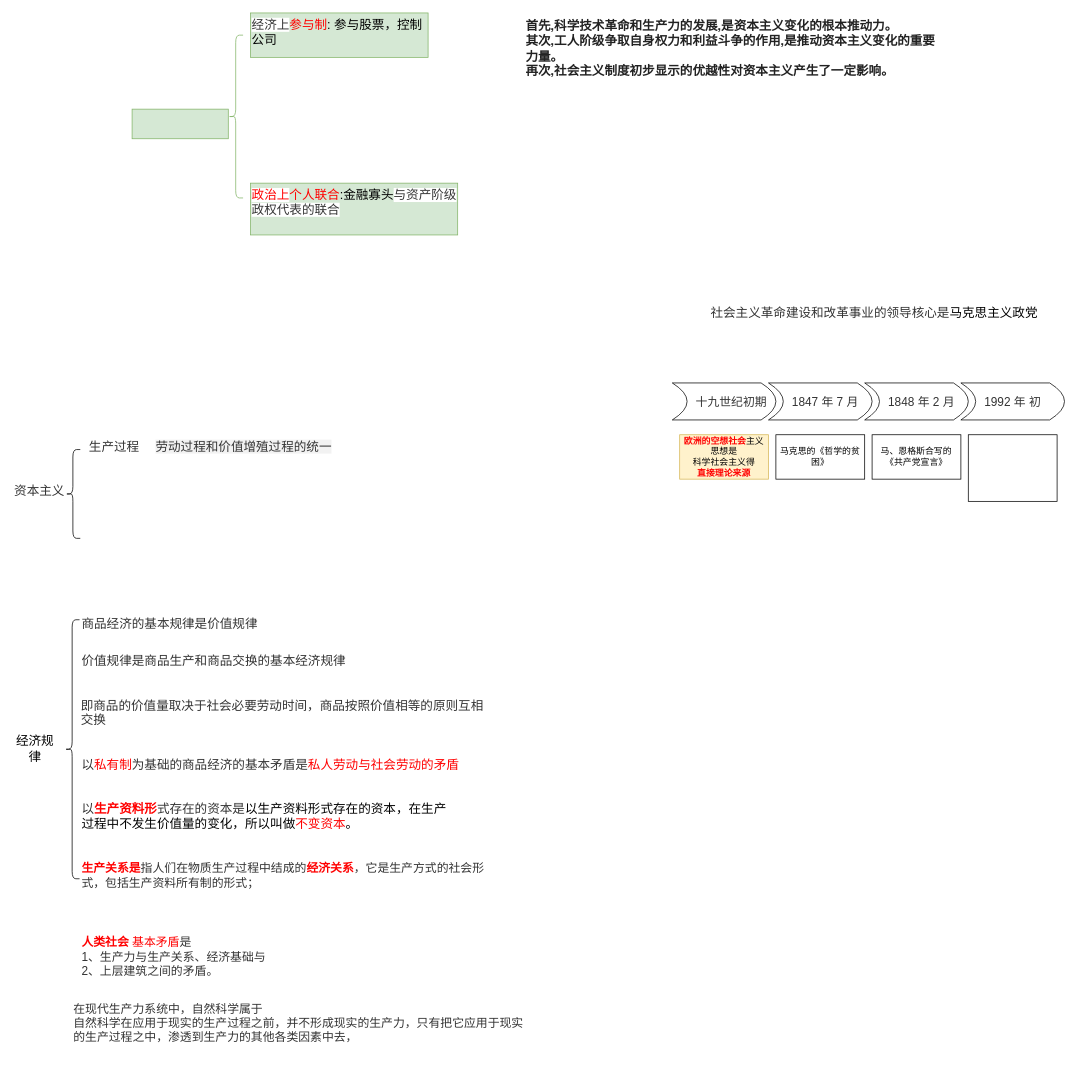
Some shapes in this 1092 by 1077 pixel diagram are drawn without their labels. Here are the shapes that lost their labels. From the top down, the centre of each, then its label:
pixel 179 123: 金融寡头统治
pixel 1012 467: 邓小平 “革命是解放生产力，改革也是解放生产力。
